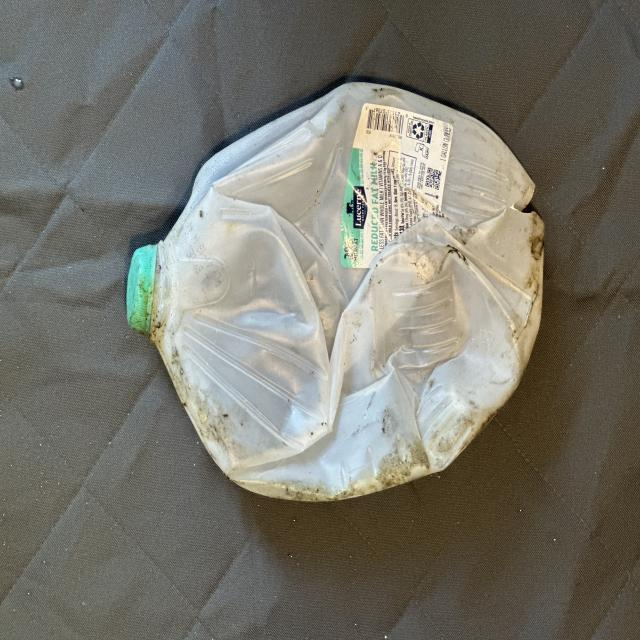milk-jug: (124, 68, 543, 514)
